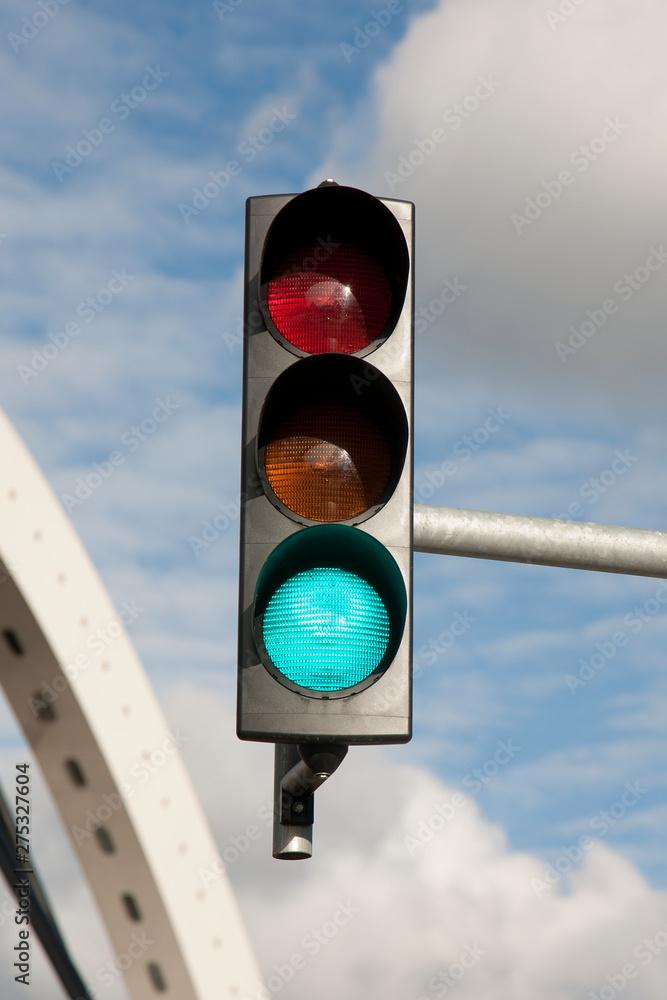Traffic light green: (215, 178, 442, 782)
